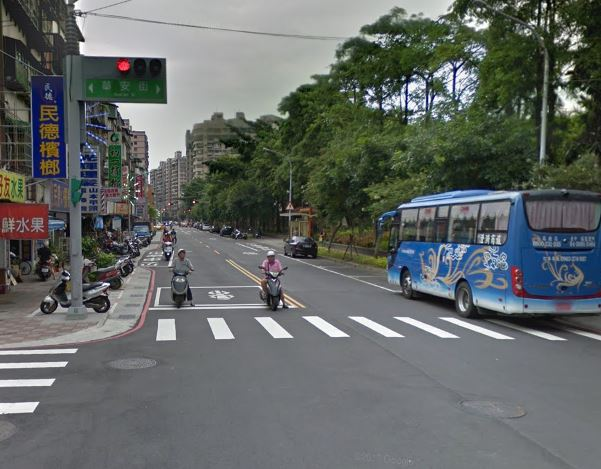Traffic_light_red: (116, 56, 164, 75)
